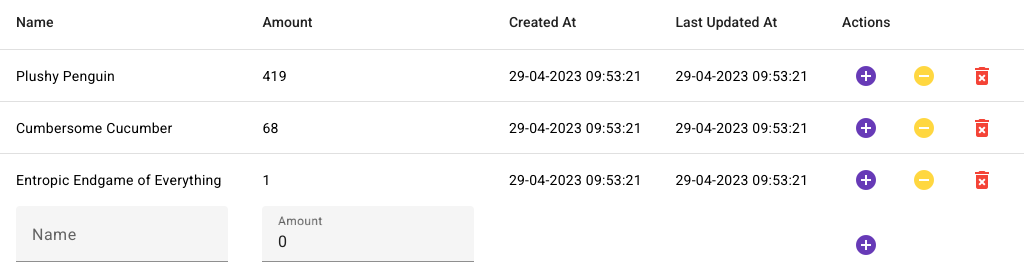
it: Inventory E2E › GIVEN the inventory is not empty › WHEN user clicks the remove button THEN item should be removed
This screenshot has width=1024, height=279.
Check: the cell with test id "amount-1" is shown, box [246,50,492,102]
Click the button with test id "remove-btn-1" at (982, 76), box [958,52,1006,100]
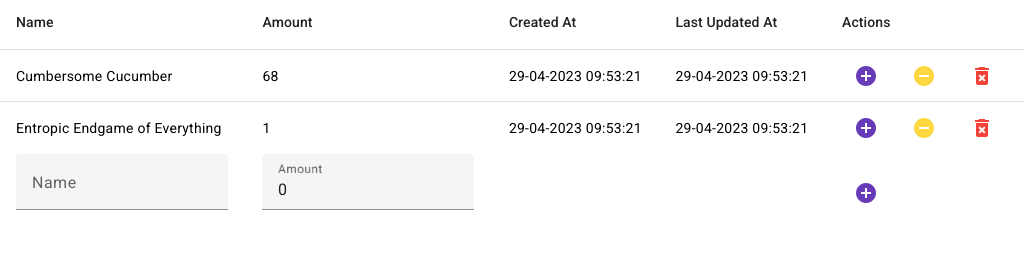
Check: the cell with test id "amount-1" is gone
